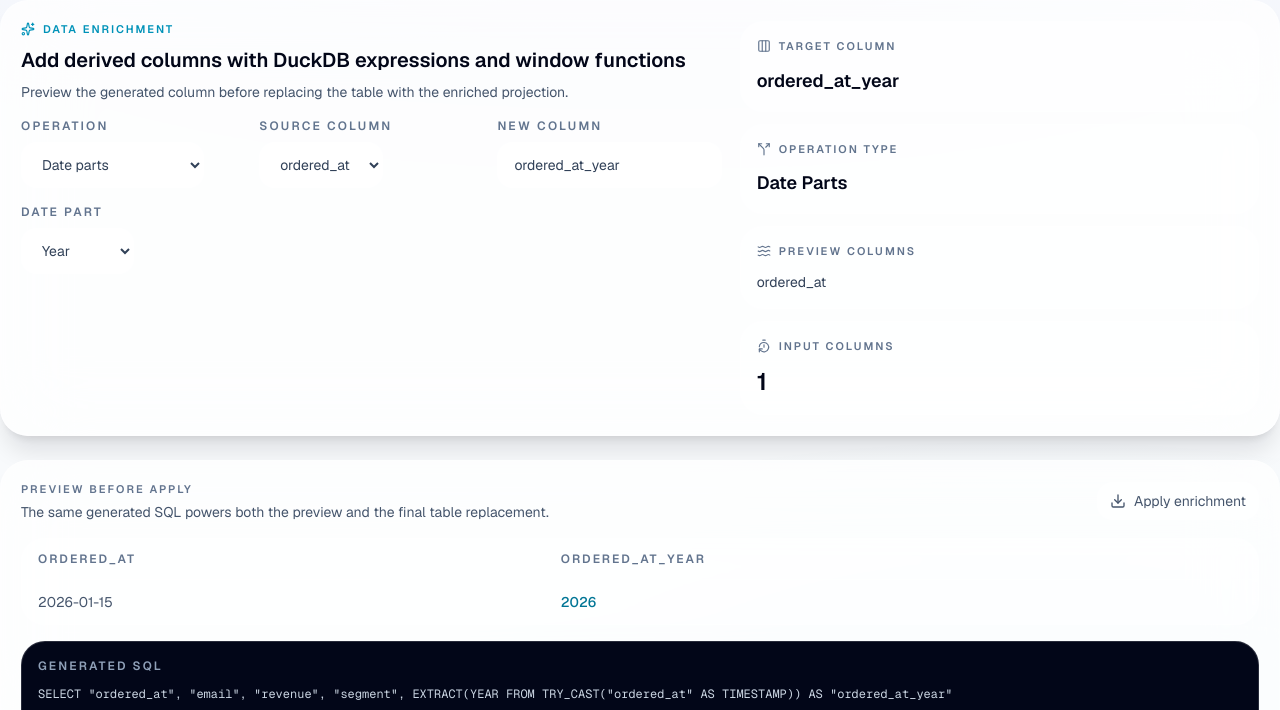
Test: DataEnrichment › shows apply errors when the replacement query fails
expect the text "Apply enrichment" is shown: met, box [1110, 491, 1246, 511]
Click the button "Apply enrichment".
click(1178, 501)  # box [1097, 482, 1259, 520]
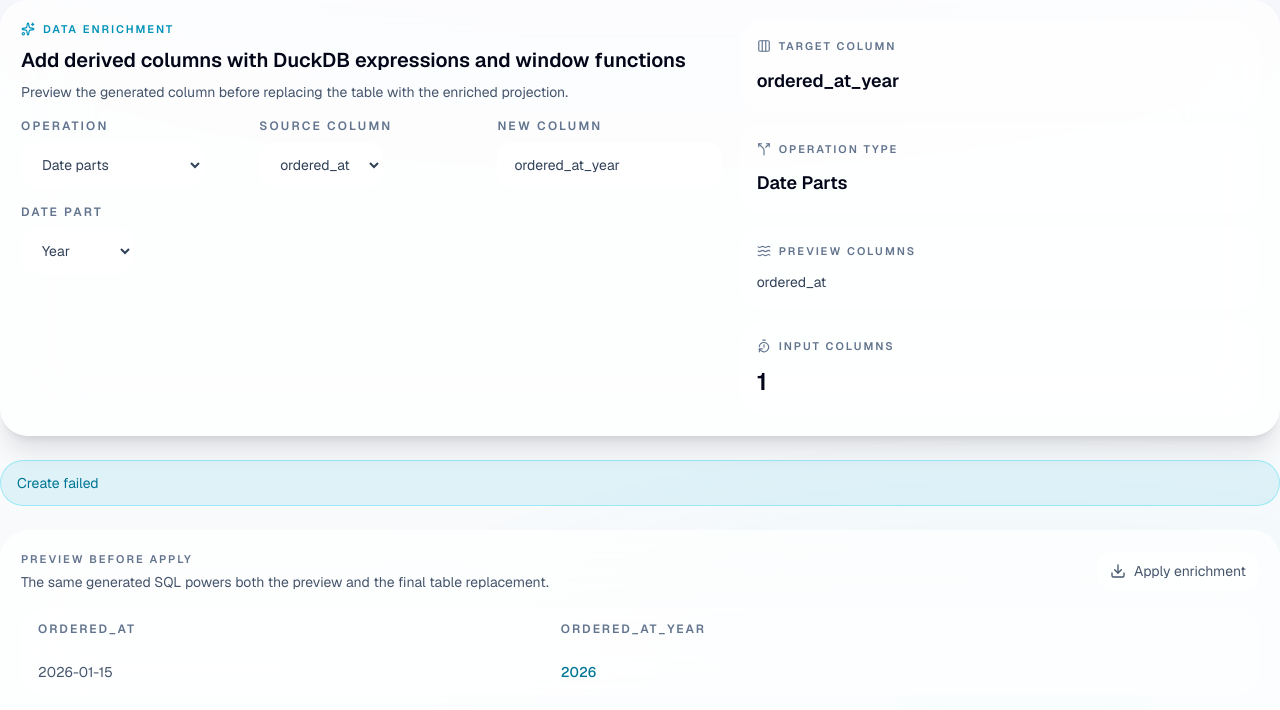
expect the text "Create failed" is shown: met, box [0, 460, 1279, 506]
